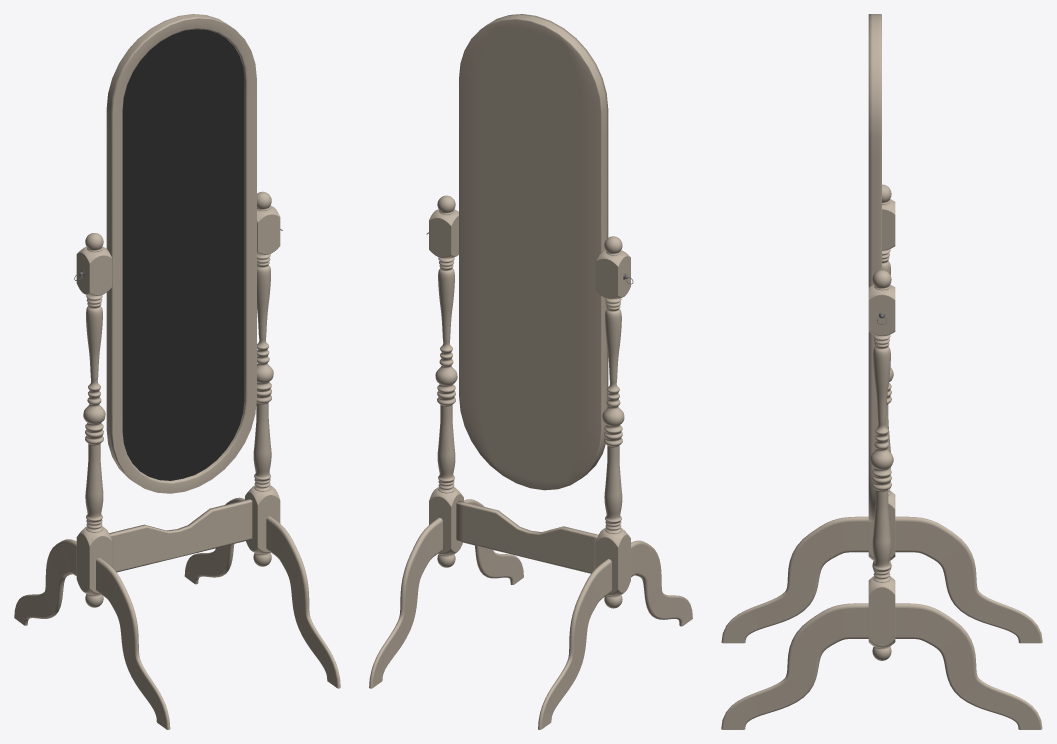
File: mirror.glb
3 views of the same model, side by side, from view 1: azimuth 30°, elevation 25°; view 2: azimuth 150°, elevation 25°; view 3: azimuth 270°, elevation 25° (orthographic). The views are drawn at different scales.
Visible parts, largest first — view 1: Specchio, Struttura; view 2: Struttura; view 3: Struttura.
Boxes of the visible parts, x1,y1,x2,y2 form: Specchio: (122,29,244,480); Struttura: (14,14,340,729); Struttura: (369,14,692,729); Struttura: (721,14,1042,729).
Bounding box in the file's own units: 55.7 × 164 × 71.86.
